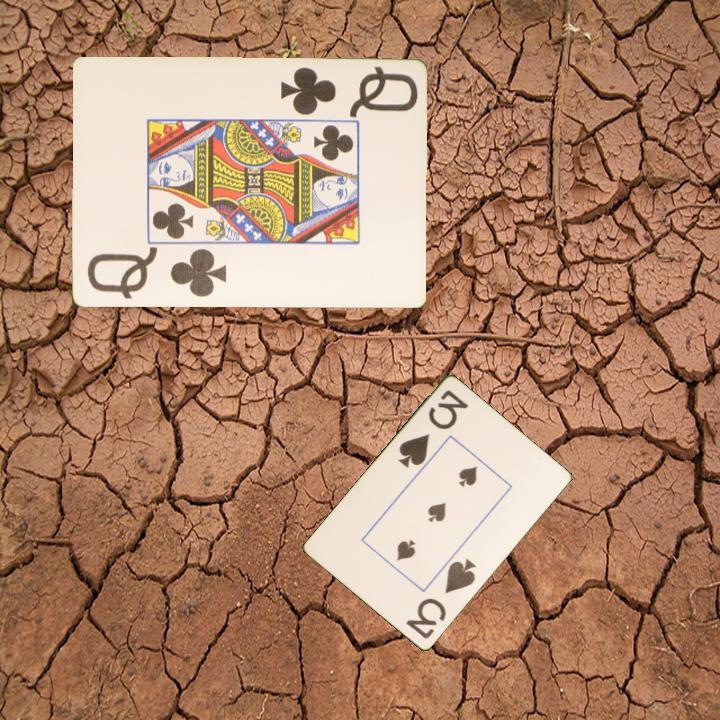3s: (402, 555, 479, 642), (395, 387, 471, 472)
Qc: (83, 246, 230, 303), (277, 63, 420, 119)
